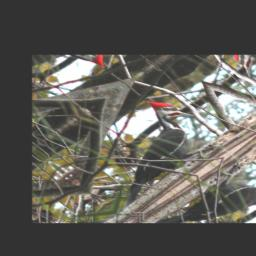Woodpecker: (64, 90, 229, 210)
